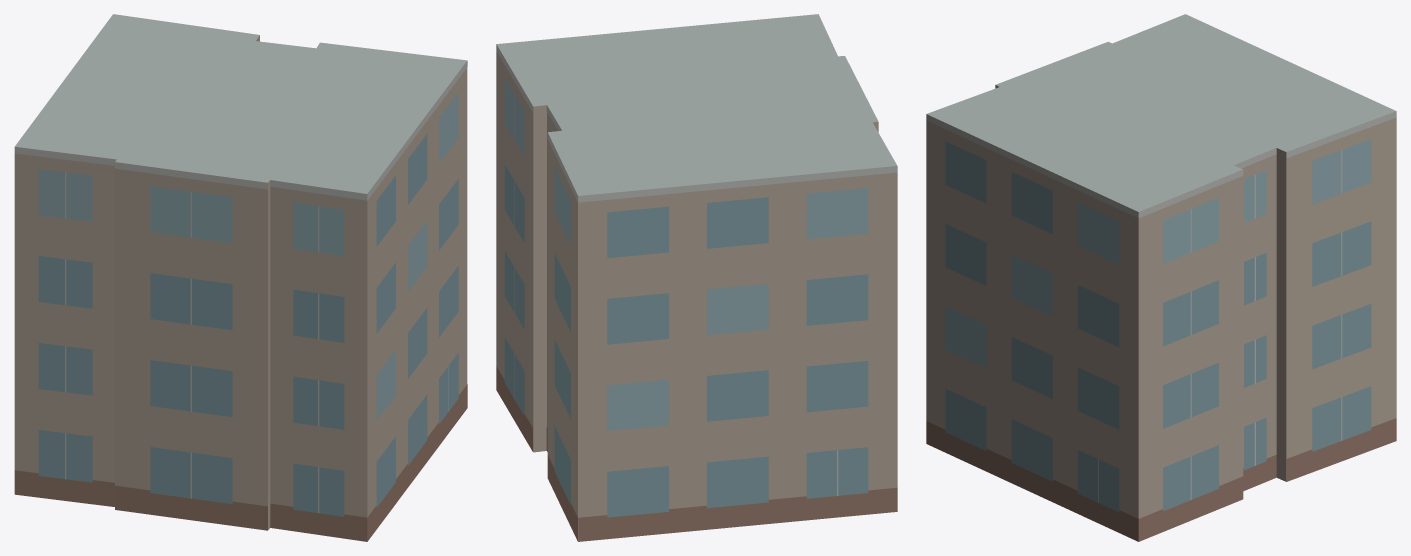
The model's file is survey-upis-32744926.glb.
3 renders of one model, left to right at view 1: azimuth 30°, elevation 25°; view 2: azimuth 150°, elevation 25°; view 3: azimuth 270°, elevation 25°, orthographic. The views are drawn at different scales.
Parts seen in each view (by area): view 1: survey-upis-32744926.tmp; view 2: survey-upis-32744926.tmp; view 3: survey-upis-32744926.tmp.
Boxes of the visible parts, x1,y1,x2,y2 form: survey-upis-32744926.tmp: (14, 14, 467, 541); survey-upis-32744926.tmp: (496, 14, 897, 541); survey-upis-32744926.tmp: (926, 14, 1396, 541).
Bounding box in the file's own units: 16.5 × 12.8 × 16.55.
